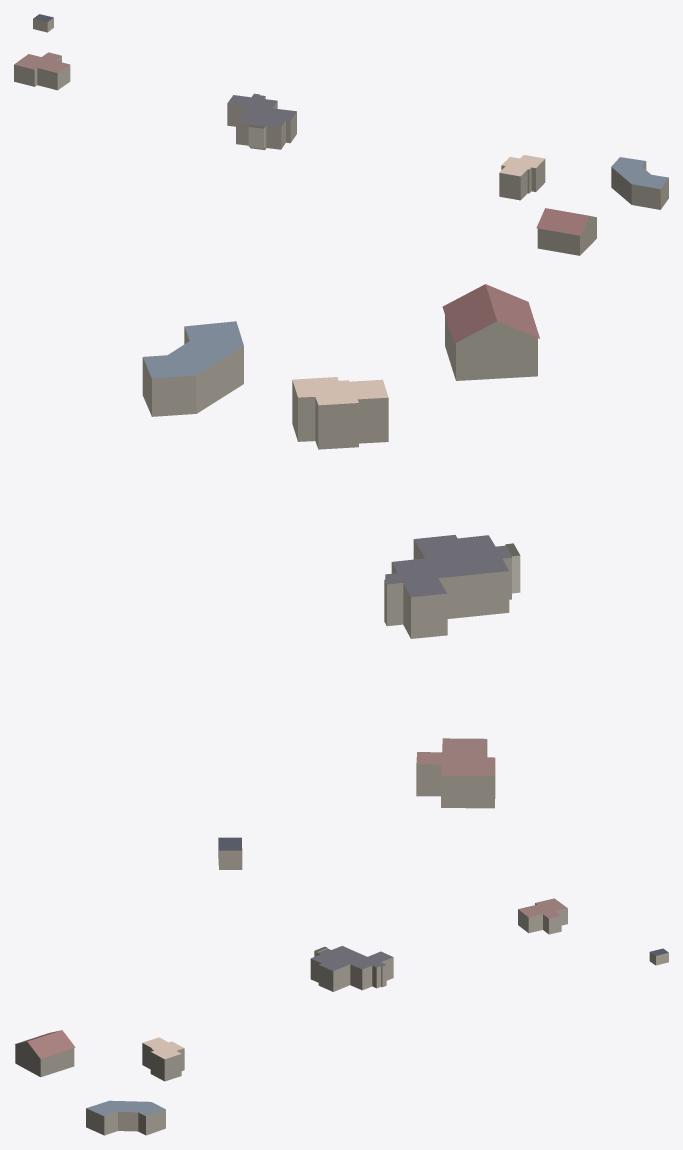
The picture shows the model from 3 angles, top to bottom: view 1: azimuth 30°, elevation 25°; view 2: azimuth 150°, elevation 25°; view 3: azimuth 270°, elevation 25°; orthographic projection. The views are drawn at different scales.
Visible parts, largest first — view 1: tuile; view 2: tuile; view 3: tuile.
Boxes of the visible parts, bbox=[...] form: tuile: bbox=[14, 14, 668, 255]; tuile: bbox=[142, 284, 539, 869]; tuile: bbox=[15, 898, 668, 1135].
Size of the model in its own units: 144 by 19.3 by 215.
